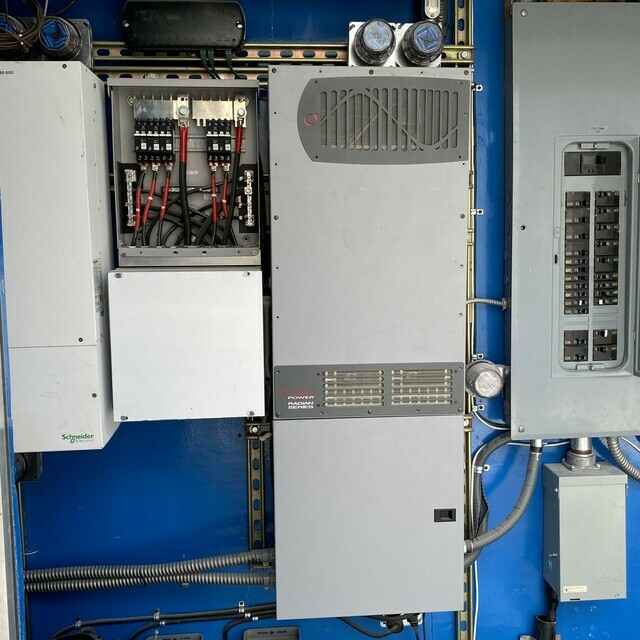inverter: (269, 60, 491, 630)
